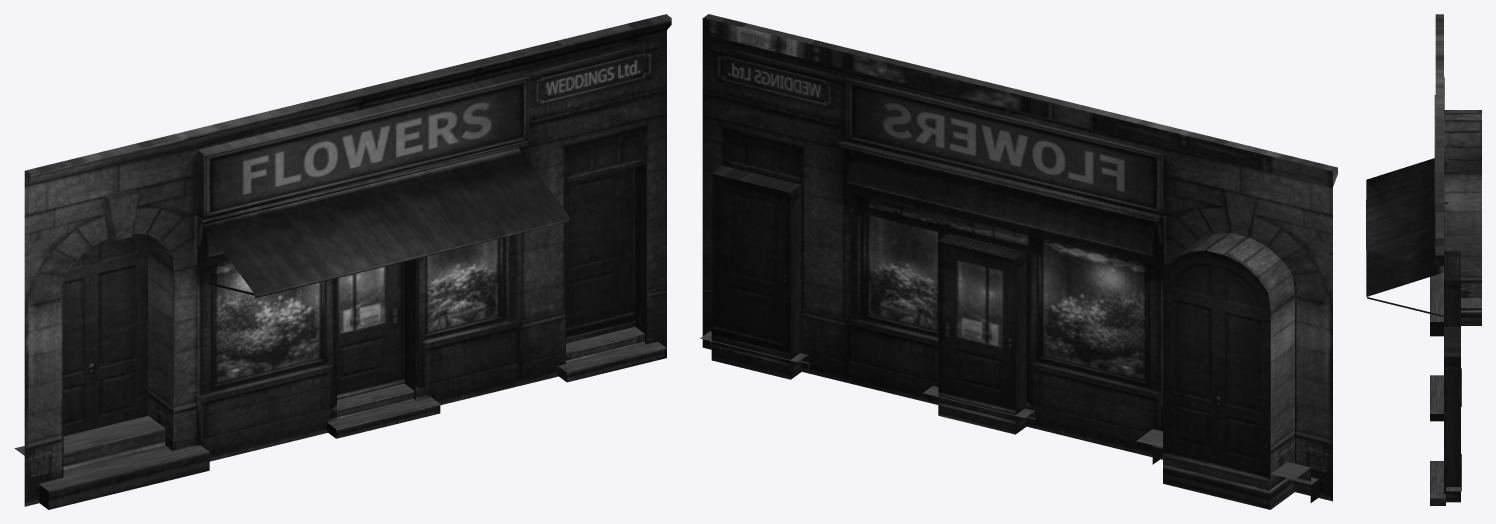
The model's file is shop.obj.
3 views of the same model, side by side, from view 1: azimuth 30°, elevation 25°; view 2: azimuth 150°, elevation 25°; view 3: azimuth 270°, elevation 25° (orthographic). The views are drawn at different scales.
Parts seen in each view (by area): view 1: group; view 2: group; view 3: group.
Part boxes in pixels (x1,y1,x2,y2): group: (14,14,671,509); group: (700,14,1337,509); group: (1366,14,1481,505).
Bounding box in the file's own units: 10 × 5 × 2.05.
Materials: 1 (1 with a texture image).
